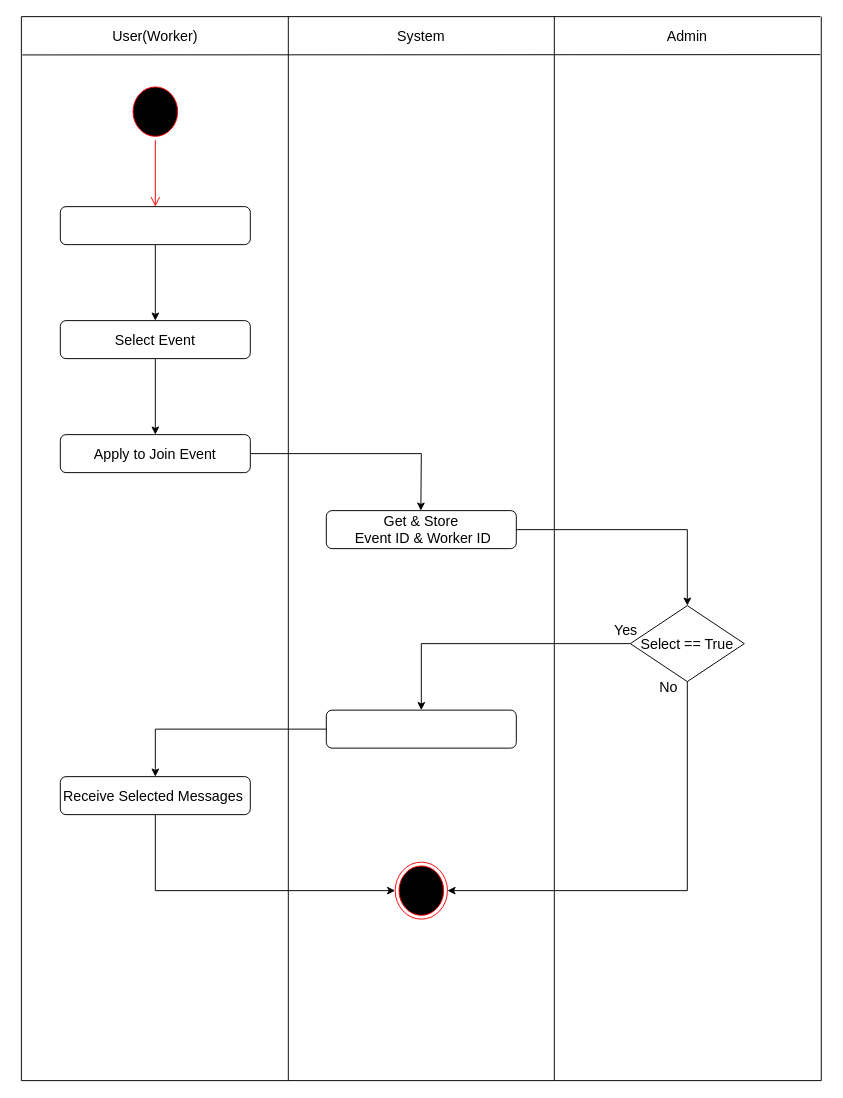
This 843x1098 diagram has some shape labels left out. The shapes that lost their labels are listed below. From the top down, each one's centre as x and y in pixels, then its label:
[154,225]: View Event
[420,728]: Send Selected Messages
